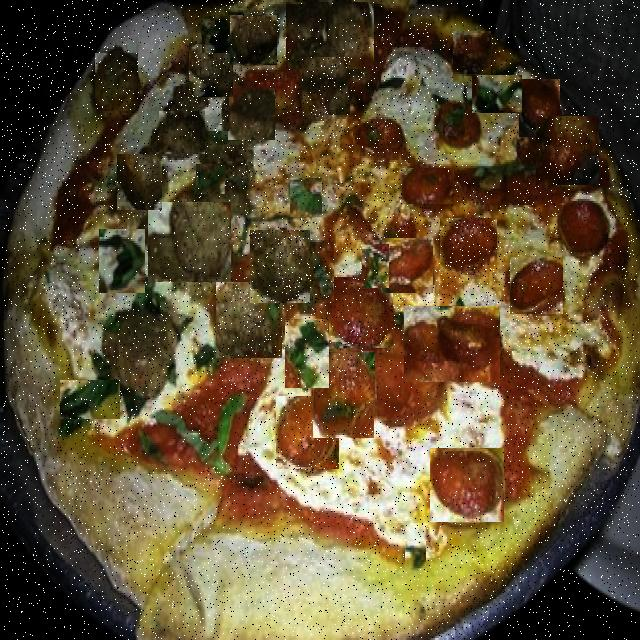Basil: (156, 404, 242, 468), (285, 320, 329, 390), (99, 229, 145, 293), (61, 380, 120, 419), (472, 75, 522, 113), (468, 157, 550, 180), (138, 418, 166, 469), (290, 178, 322, 217), (362, 244, 389, 288), (313, 251, 334, 303), (202, 16, 230, 53), (196, 164, 225, 194), (199, 340, 225, 370), (443, 104, 465, 136), (406, 541, 428, 568), (374, 80, 408, 91)
Beef: (104, 305, 180, 393), (148, 202, 231, 282), (286, 2, 374, 69), (216, 282, 282, 358), (250, 230, 310, 303), (302, 57, 350, 115), (118, 154, 164, 210), (95, 53, 138, 111), (229, 88, 275, 140), (230, 15, 277, 65), (189, 44, 233, 97), (159, 111, 205, 156), (206, 131, 250, 178)
Pepperoni: (404, 306, 500, 382), (363, 344, 444, 416), (430, 448, 504, 522), (314, 352, 376, 438), (328, 277, 393, 348), (276, 396, 339, 469), (536, 116, 599, 185), (440, 218, 497, 272), (510, 257, 563, 314), (559, 198, 610, 255), (354, 116, 414, 163), (382, 238, 433, 293), (519, 79, 560, 137), (437, 103, 482, 150), (453, 31, 491, 82), (402, 168, 454, 204)
Pizza: (1, 0, 640, 640)
